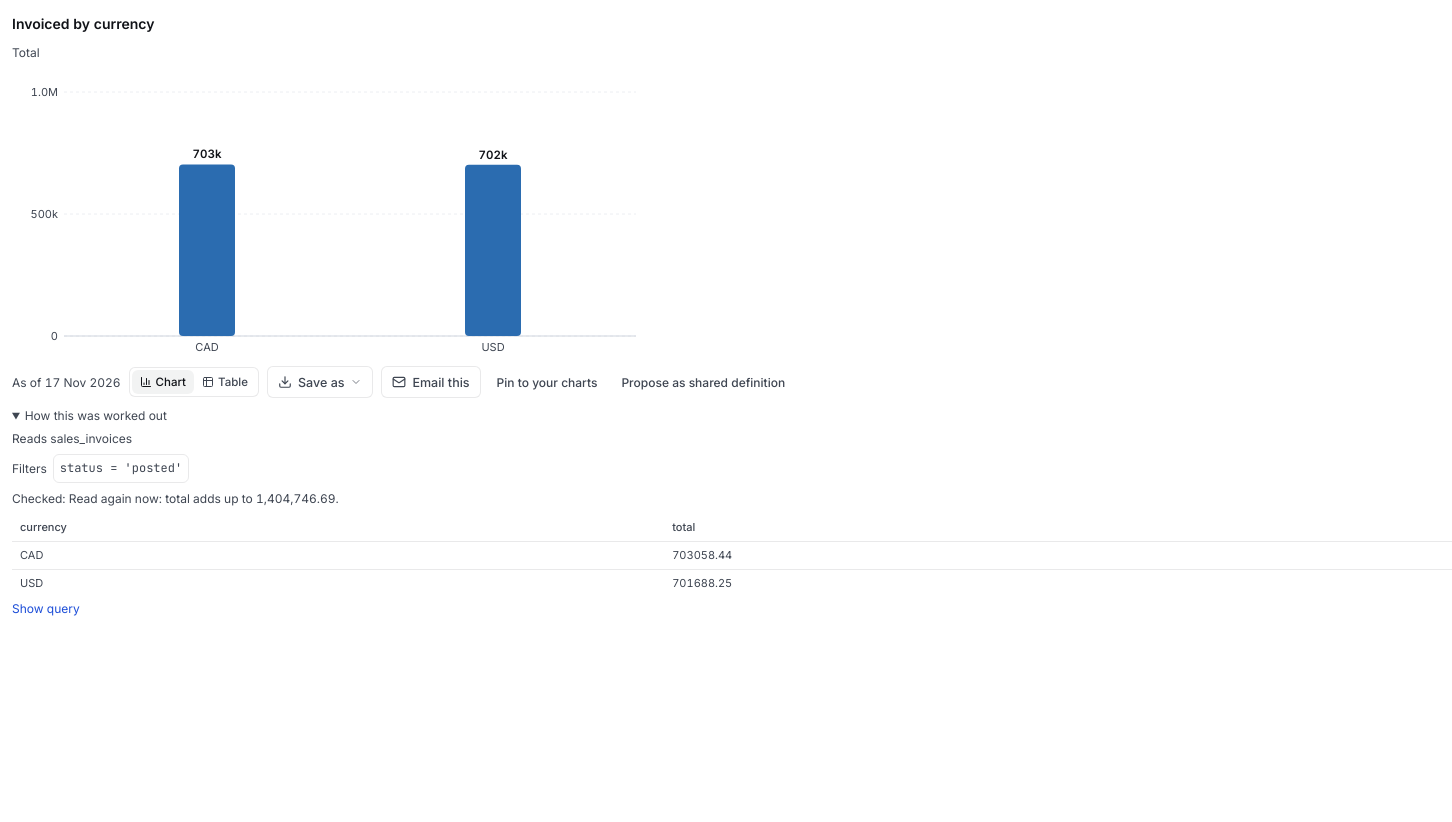
Scenario: the work behind a chart › opens to the statement read now: its views, its filters (one taken out reads again), the rows and the checked line
Check: the text with test id "chart-checked" shows "Checked: Read again now: total adds up to 1,404,746.69", box [12,491,339,506]
Check: the element with test id "chart-work" shows "Reads sales_invoices", box [12,431,189,483]
Step 1. Click the button "status = 'posted'" → x=121, y=468, box [53,454,189,483]
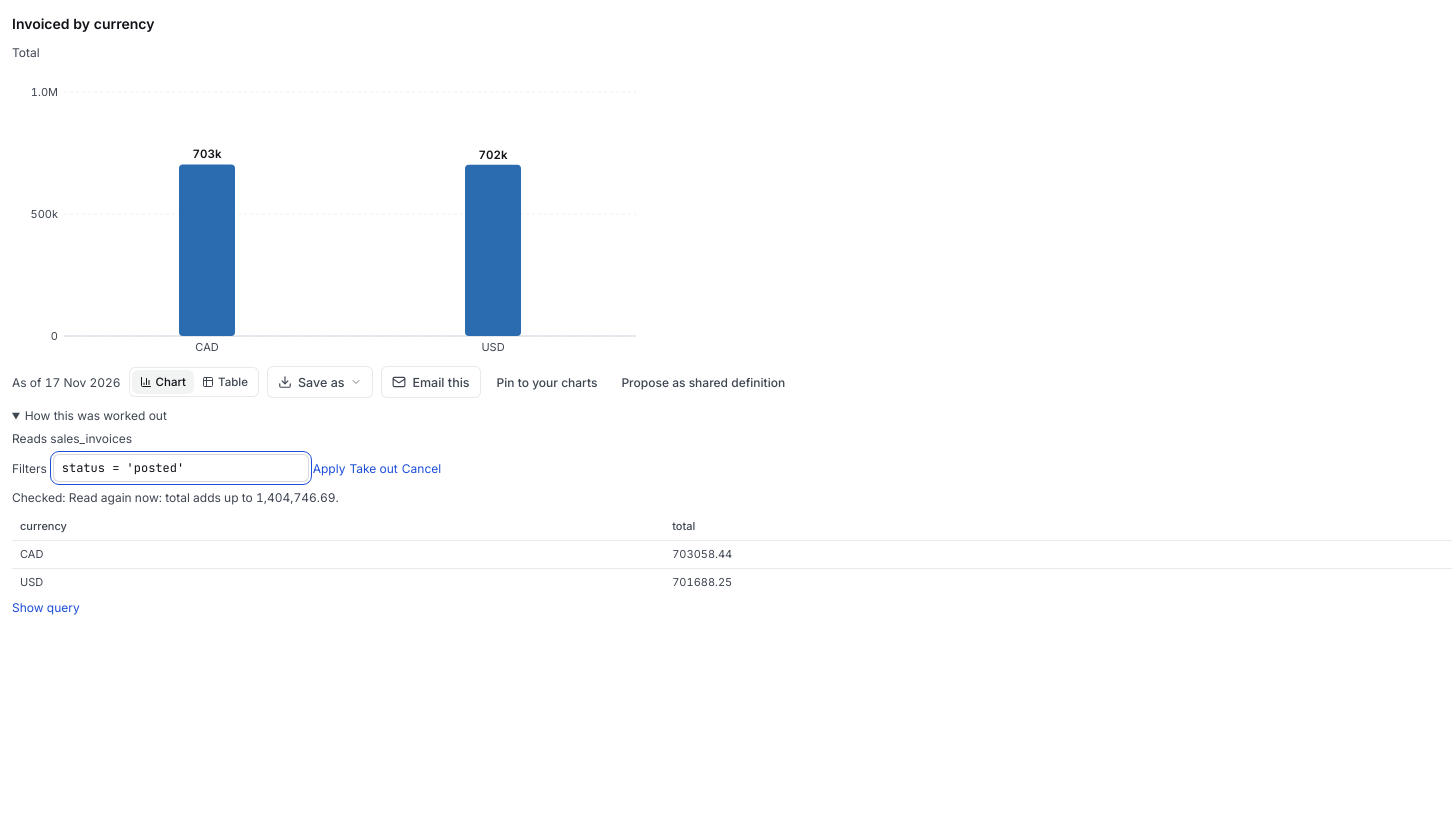
Step 2. Click the button "Take out" → x=374, y=468, box [349,456,398,480]
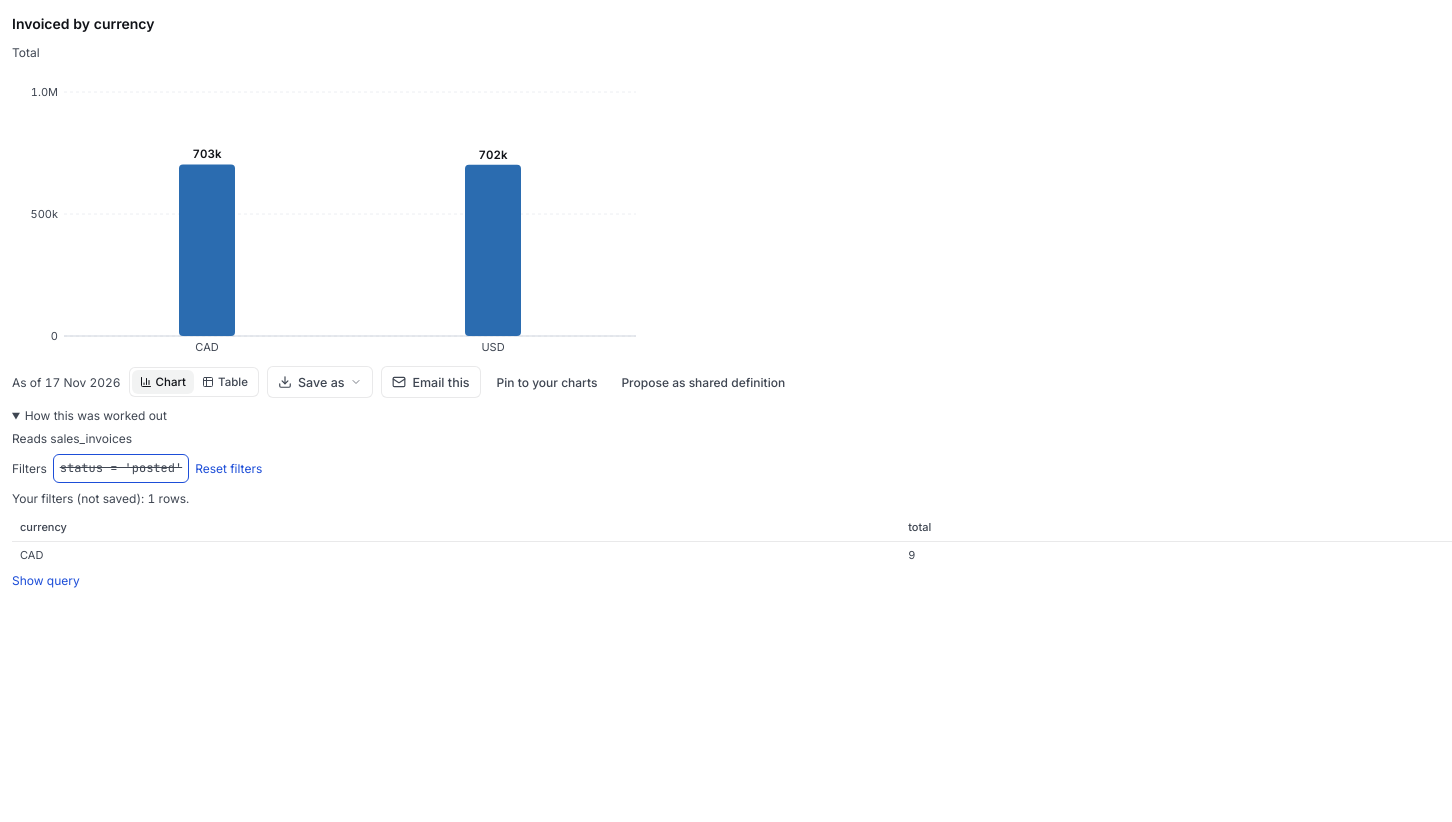
Check: the text with test id "chart-filtered" shows "Your filters (not saved): 1 rows", box [12,491,189,506]
Check: the text with test id "chart-checked" is gone
